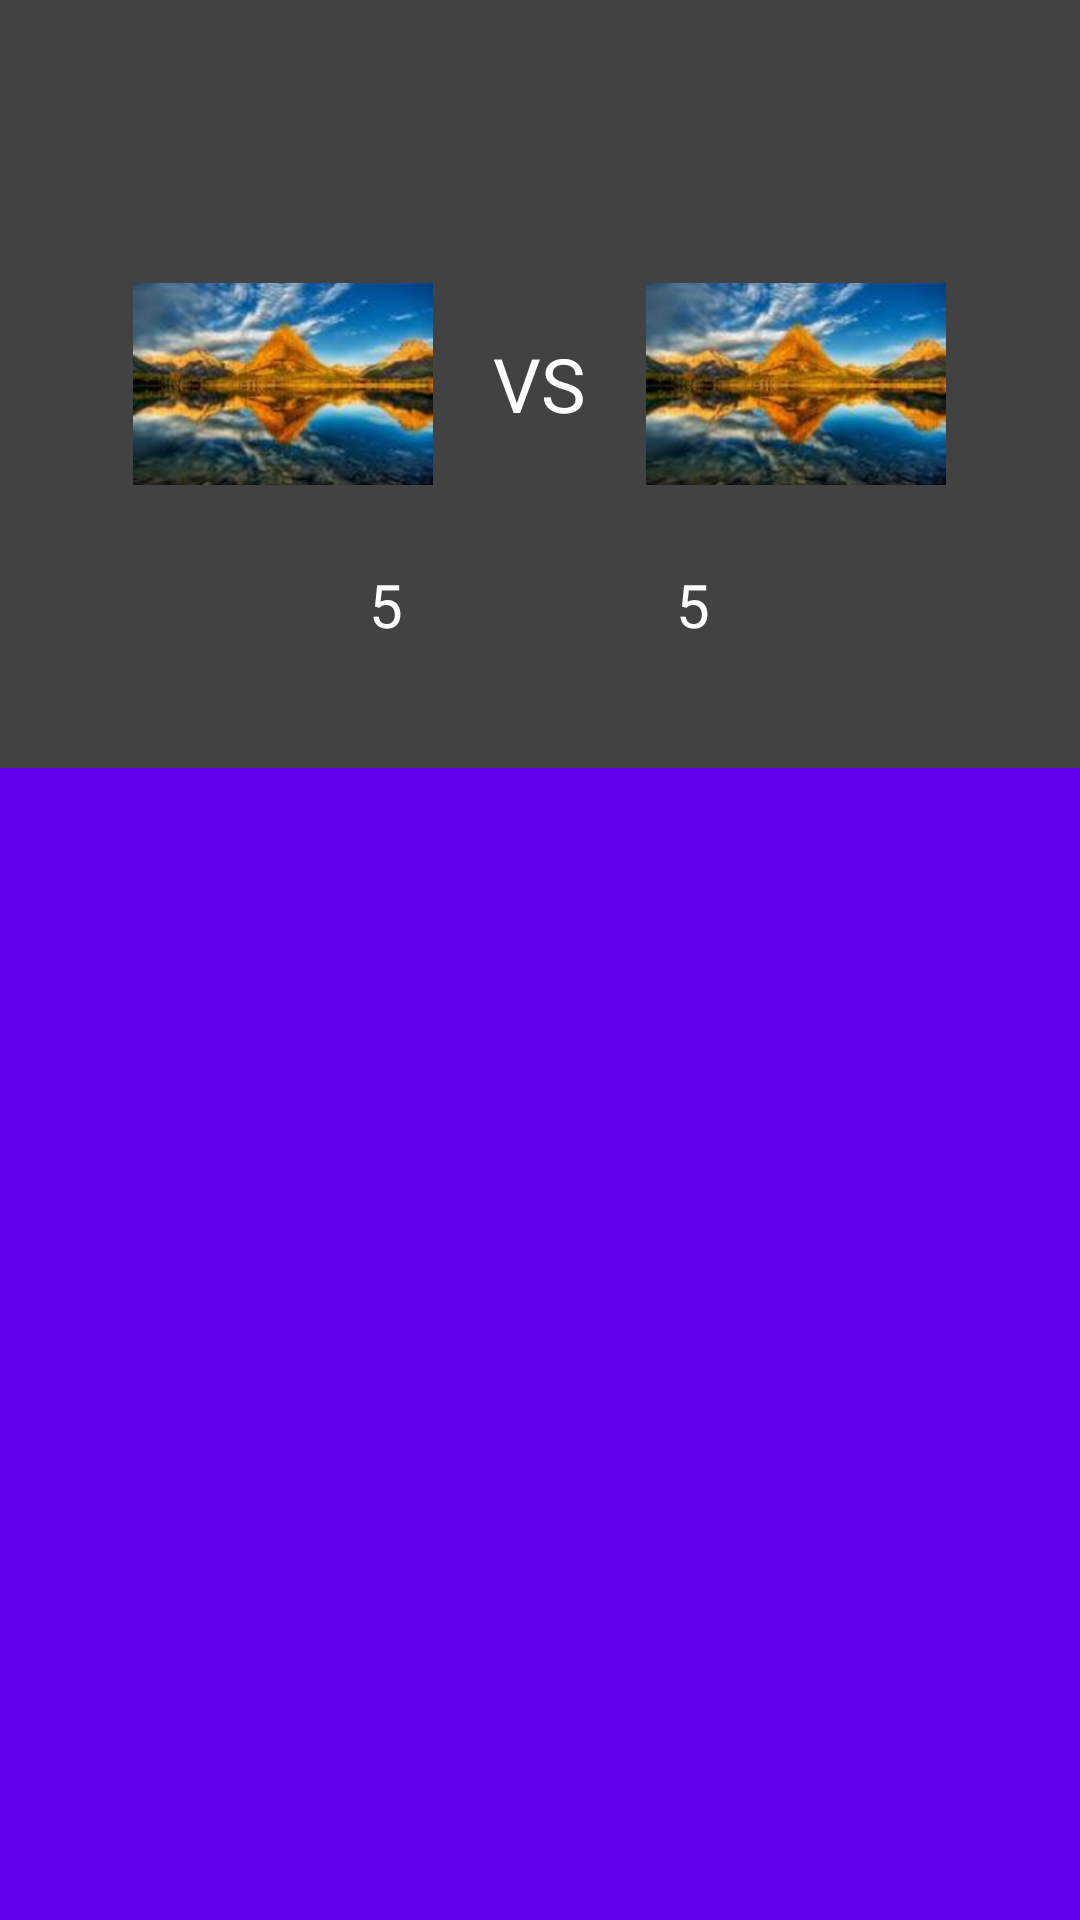

Named icons in this screenshot (1080×1920) and their bounding boxes, (x1=x1, y1=y1, x2=x2, y2=y2):
scene: (x1=133, y1=283, x2=433, y2=485), (x1=646, y1=283, x2=946, y2=485)
